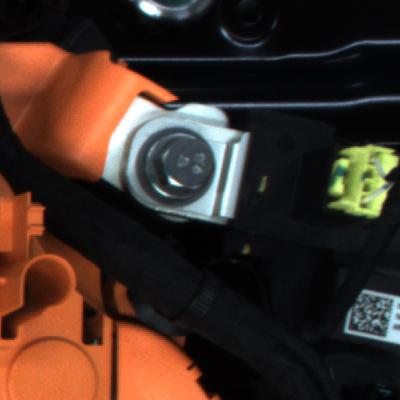nut_b: (134, 120, 234, 208)
